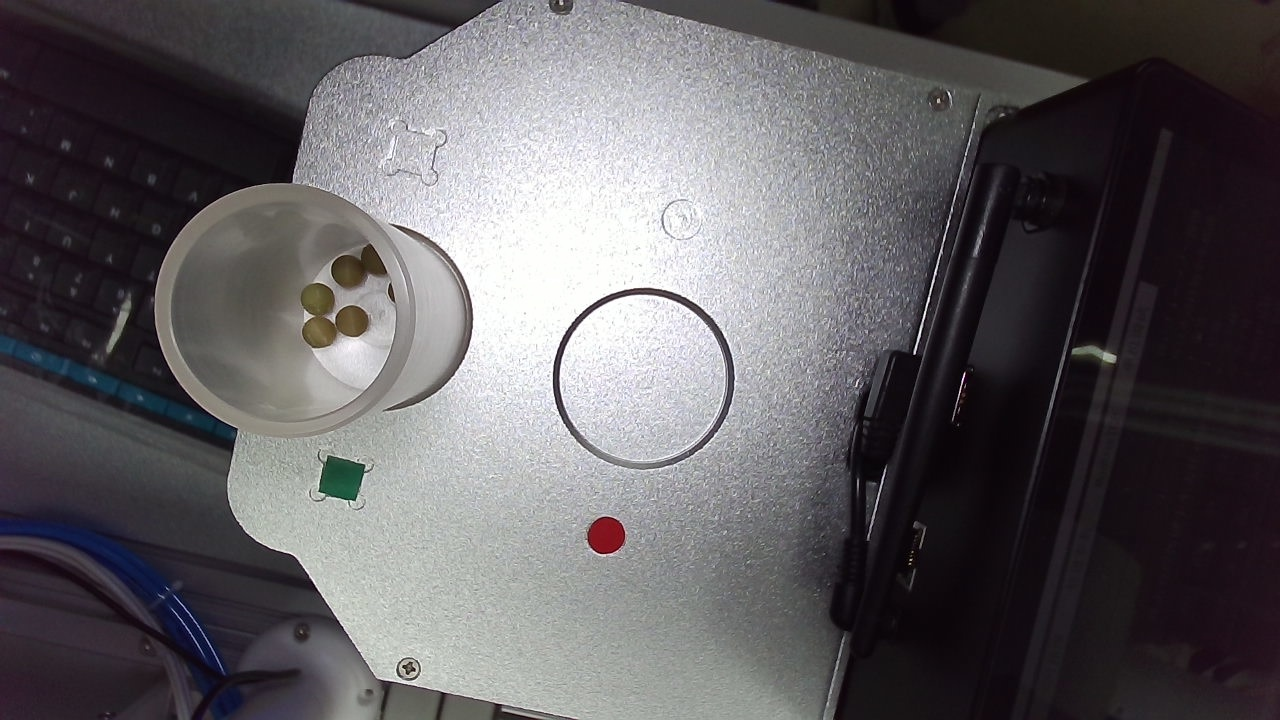XLabel: (718, 139, 785, 207)
YLabel: (1130, 196, 1198, 269)
none: (998, 322, 1280, 651)
whiteexcept: (542, 262, 927, 645)
